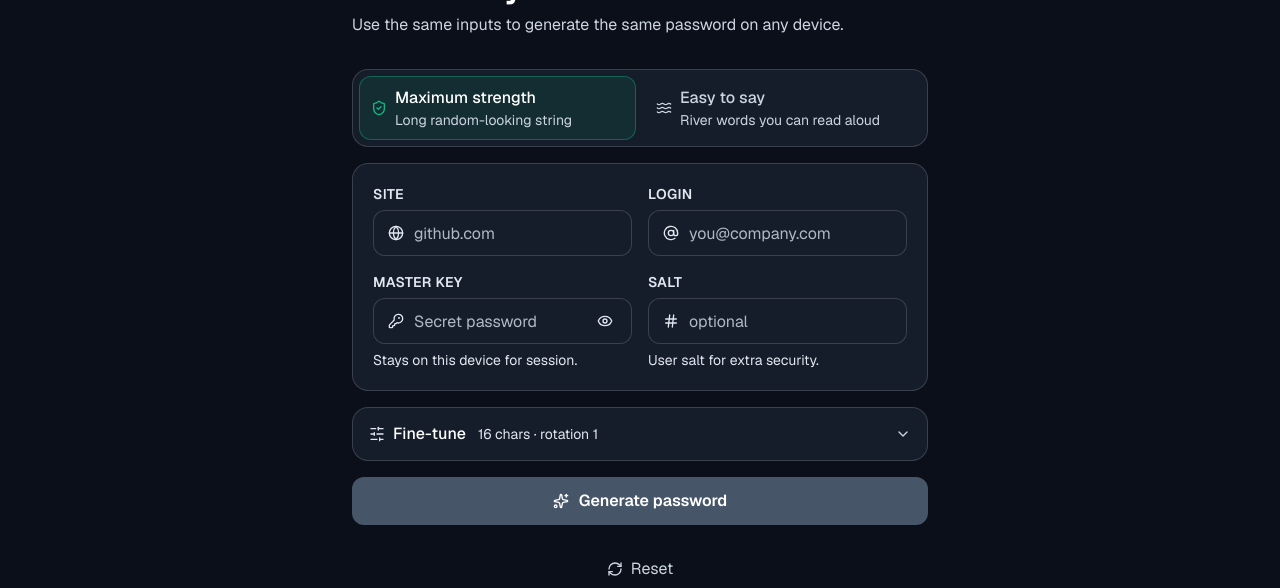
Test: homepage password compatibility › passes the Memorable shift and magic number to the generator
Type "  HTTPS://WWW.EXAMPLE.COM///  " into the field with placeholder "github.com" at (516, 233), box [414,211,617,255]
Type " FIXTURE@EXAMPLE.COM " into the field with placeholder "you@company.com" at (790, 233), box [689,211,892,255]
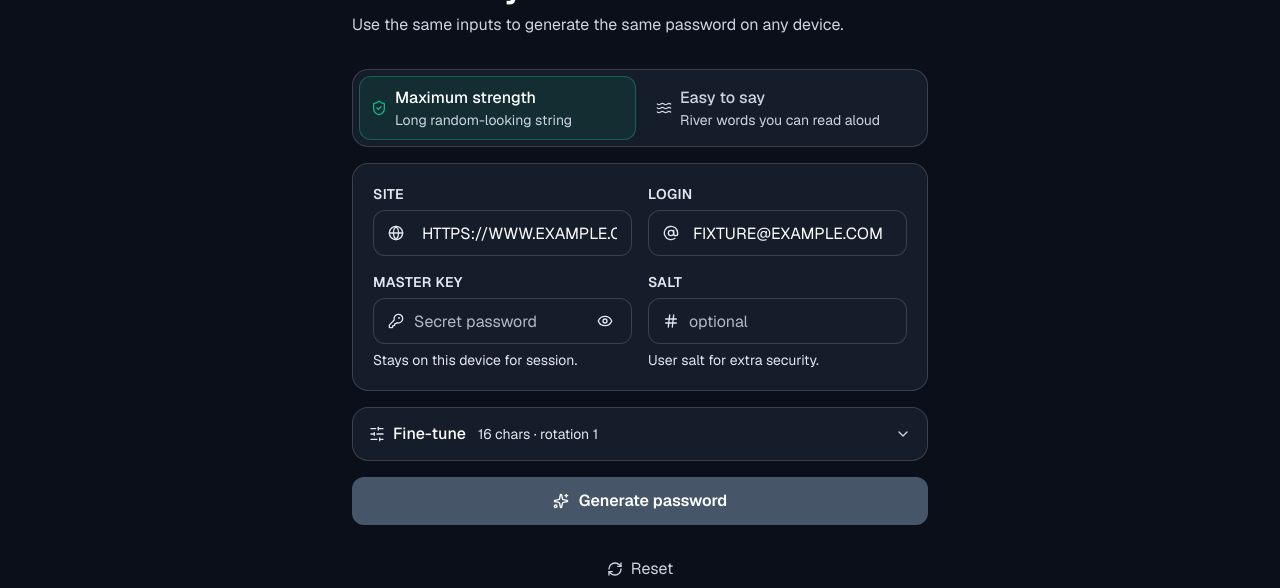
Click the radio button labelled "Easy to say River words you can read aloud" at (782, 108), box [644,76,921,140]
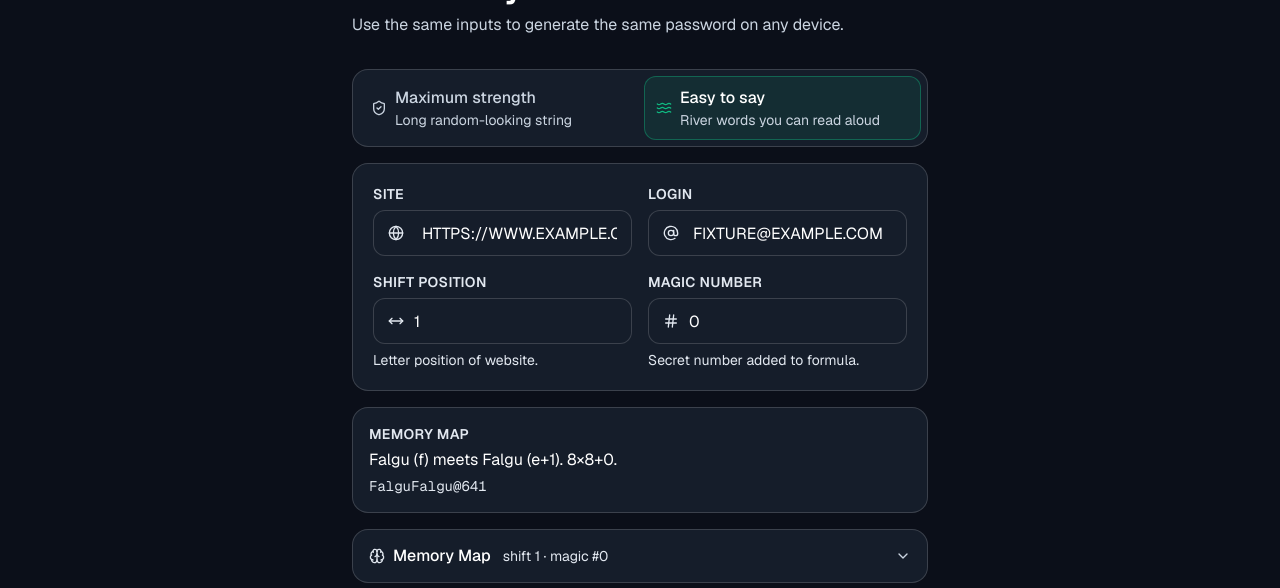
Replace the text in the field named "Shift position" with "3" at (516, 321), box [414,299,617,343]
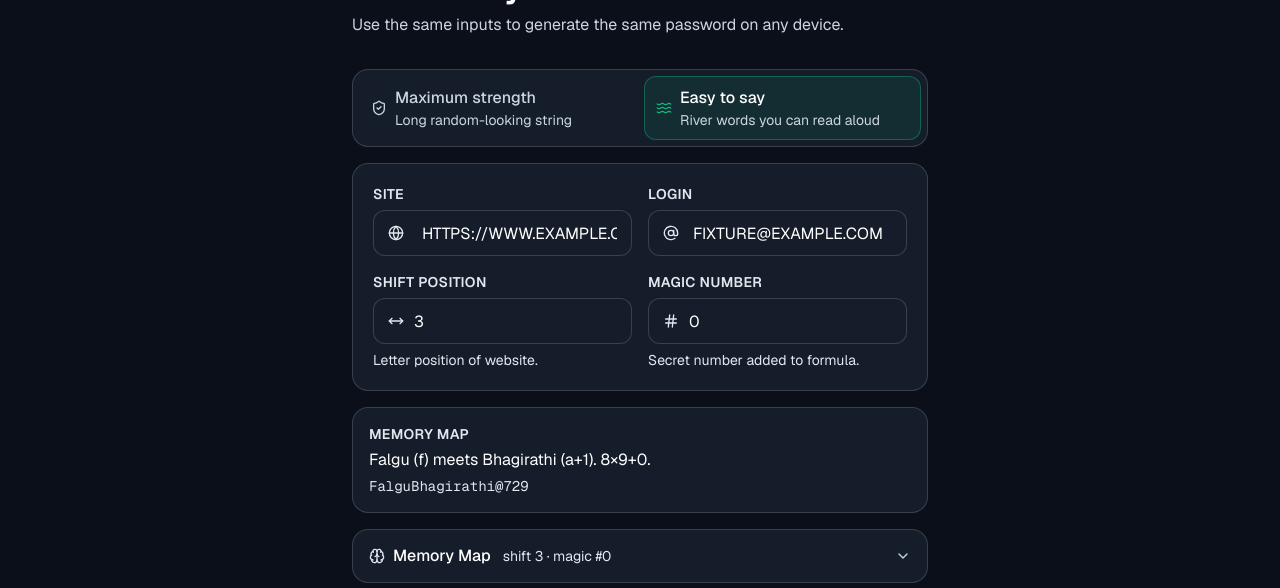
Replace the text in the field named "Magic number" with "42" at (790, 321), box [689,299,892,343]
(page scrolled)
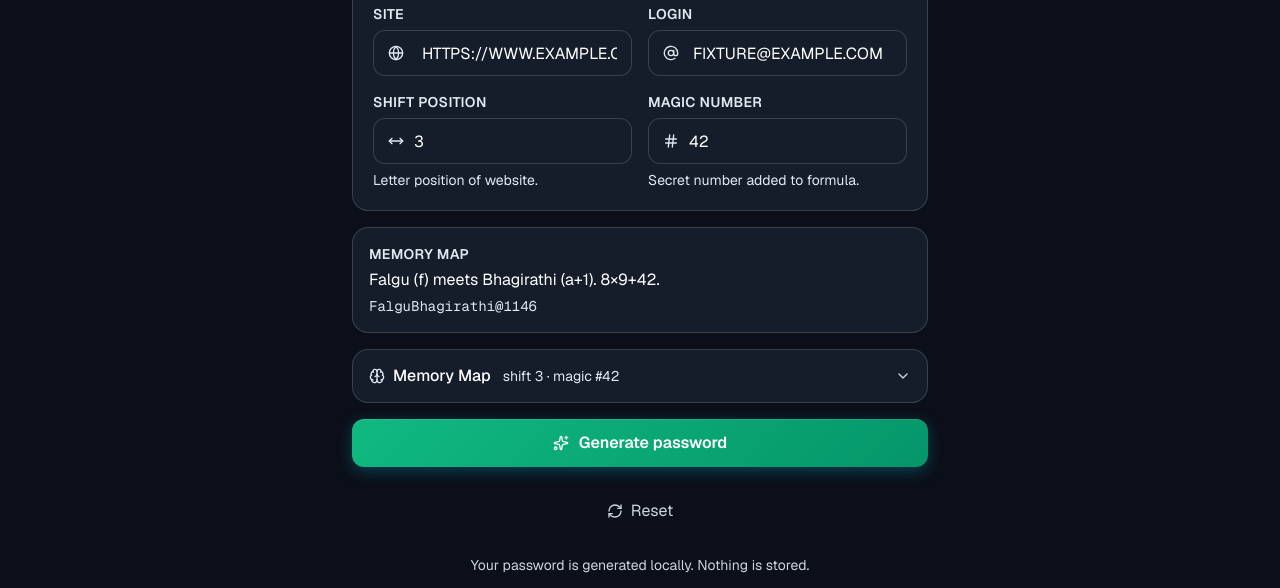
Click the button "Generate password" at (640, 443), box [352,419,928,467]
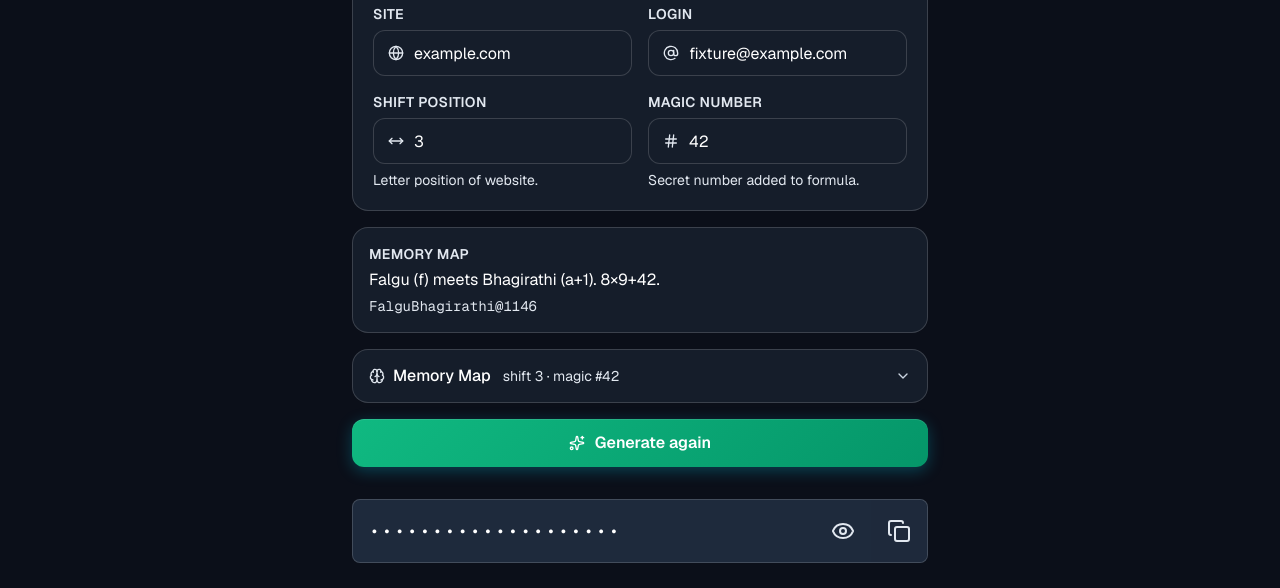
Click the button named "Show password" at (843, 531), box [815,500,871,562]
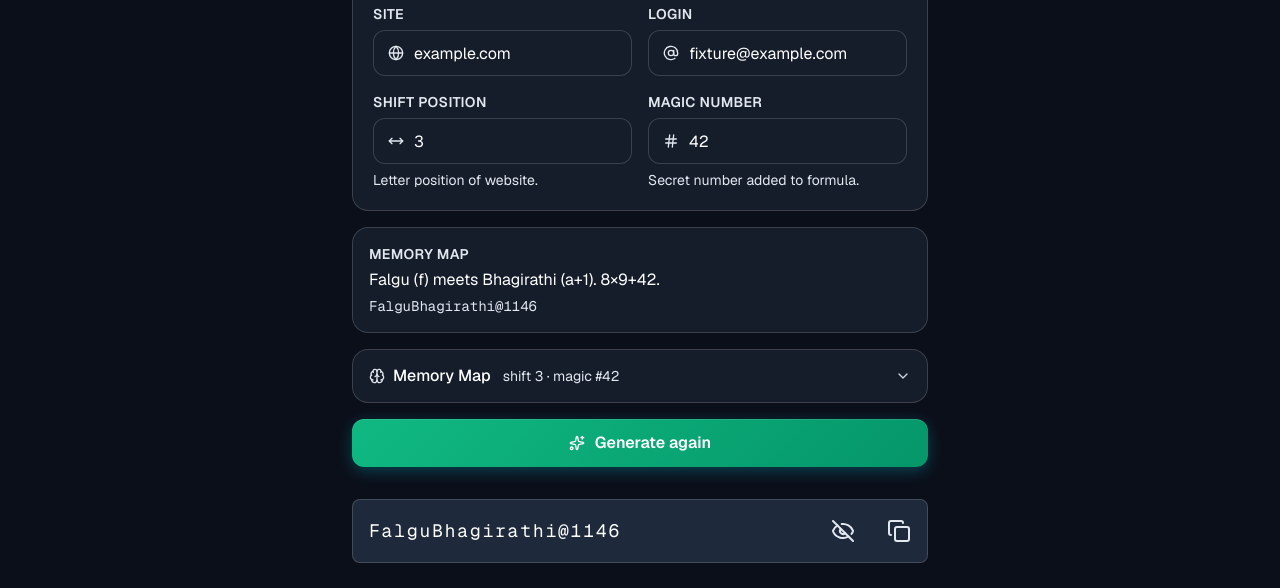
Result: the text named "Password visible" reads "FalguBhagirathi@1146" at [369,519,621,542]
